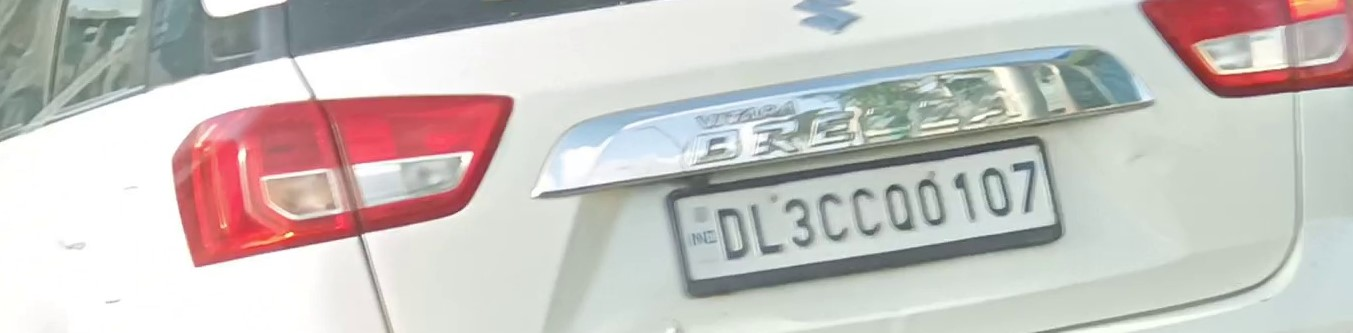DL3CCQ0107: (675, 145, 1060, 280)
